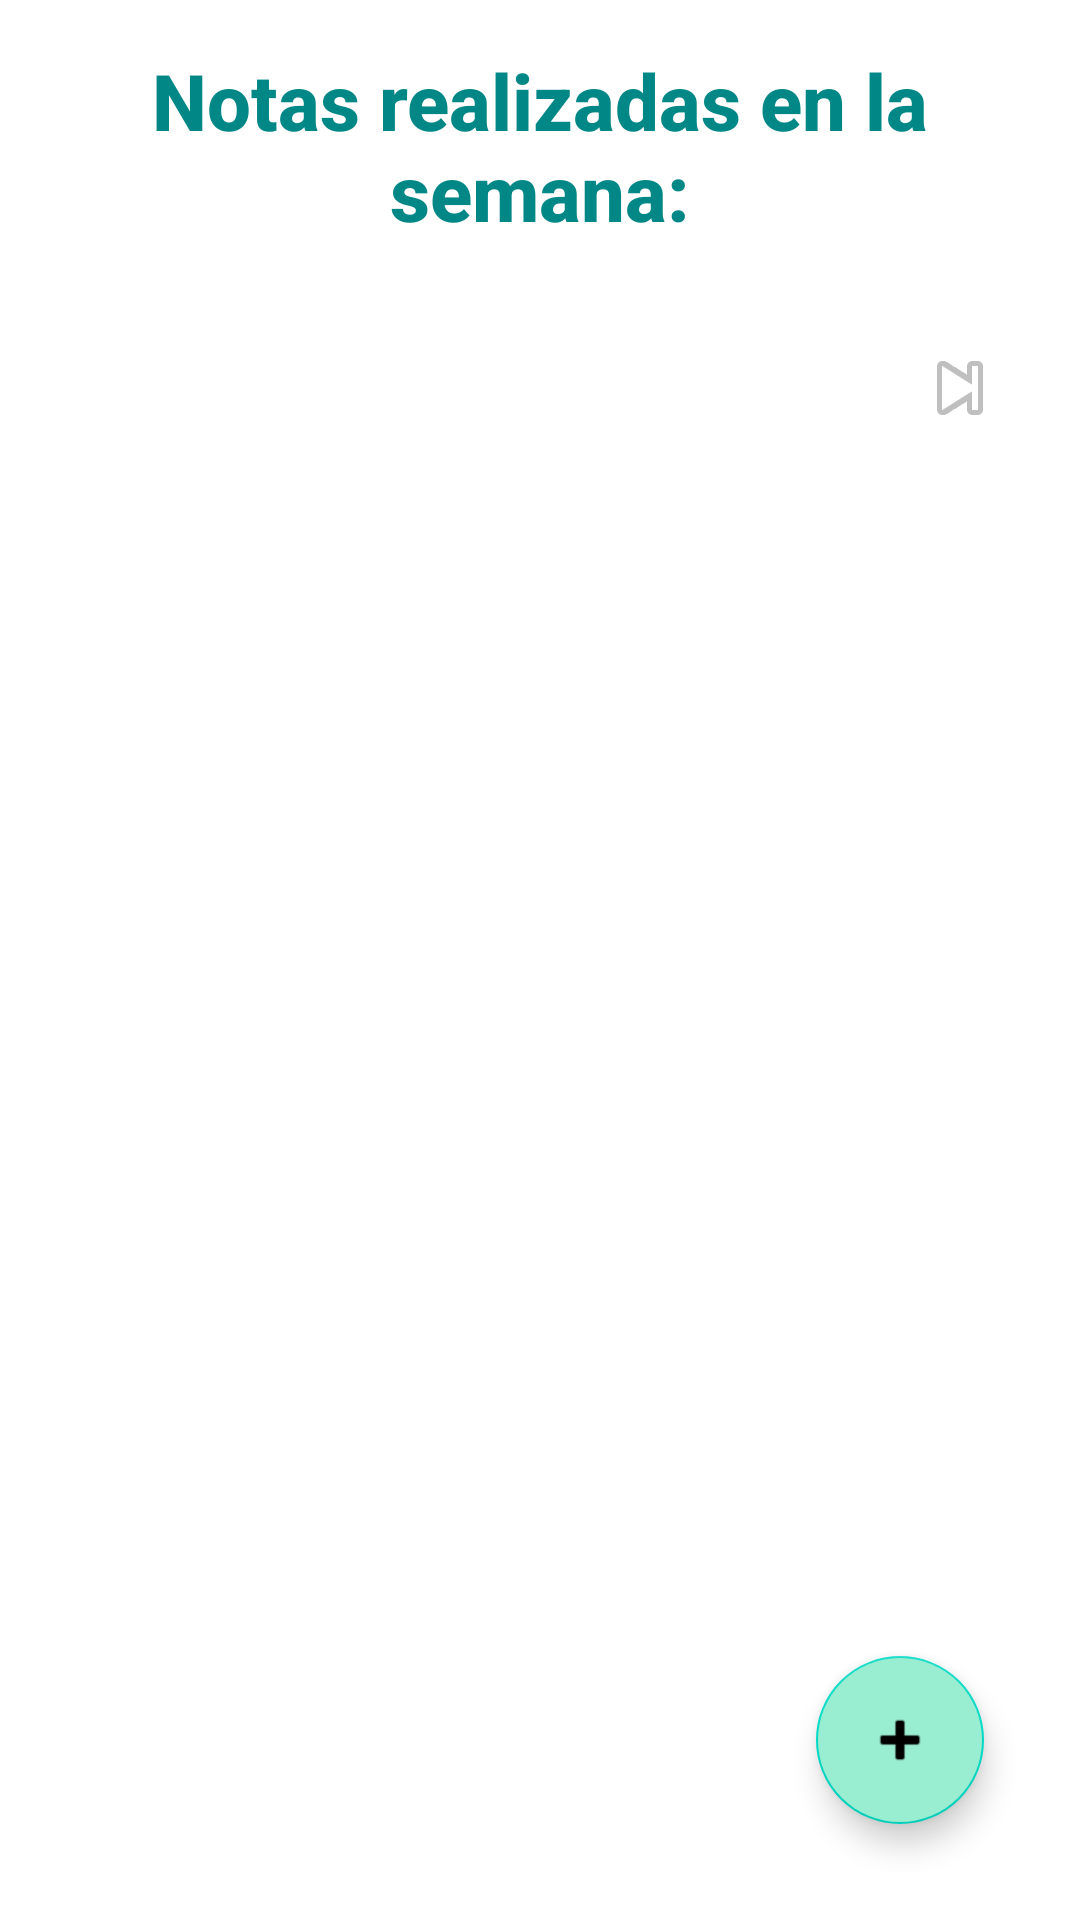

Where to tap for icons on this 1080px x 1920px app screen, as [x,y]:
Añadir nota: [900,1740]
Semana siguiente: [960,388]
